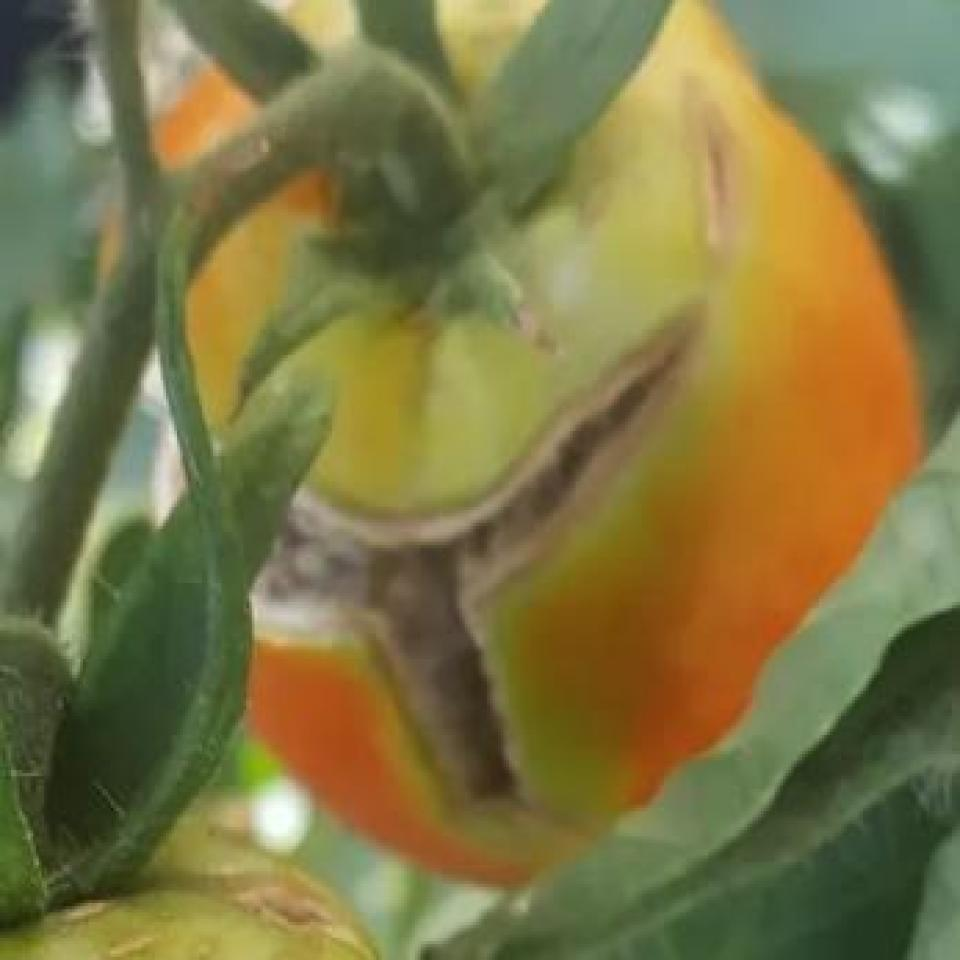Cracking: (131, 306, 719, 870), (655, 76, 770, 274)
